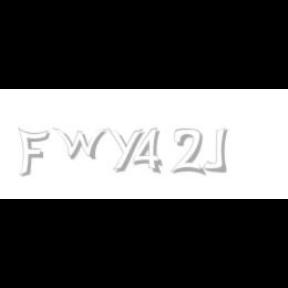2: (170, 128, 204, 176)
4: (132, 128, 162, 174)
F: (17, 128, 49, 178)
J: (202, 128, 228, 172)
w: (52, 128, 112, 160)
y: (107, 128, 147, 172)
